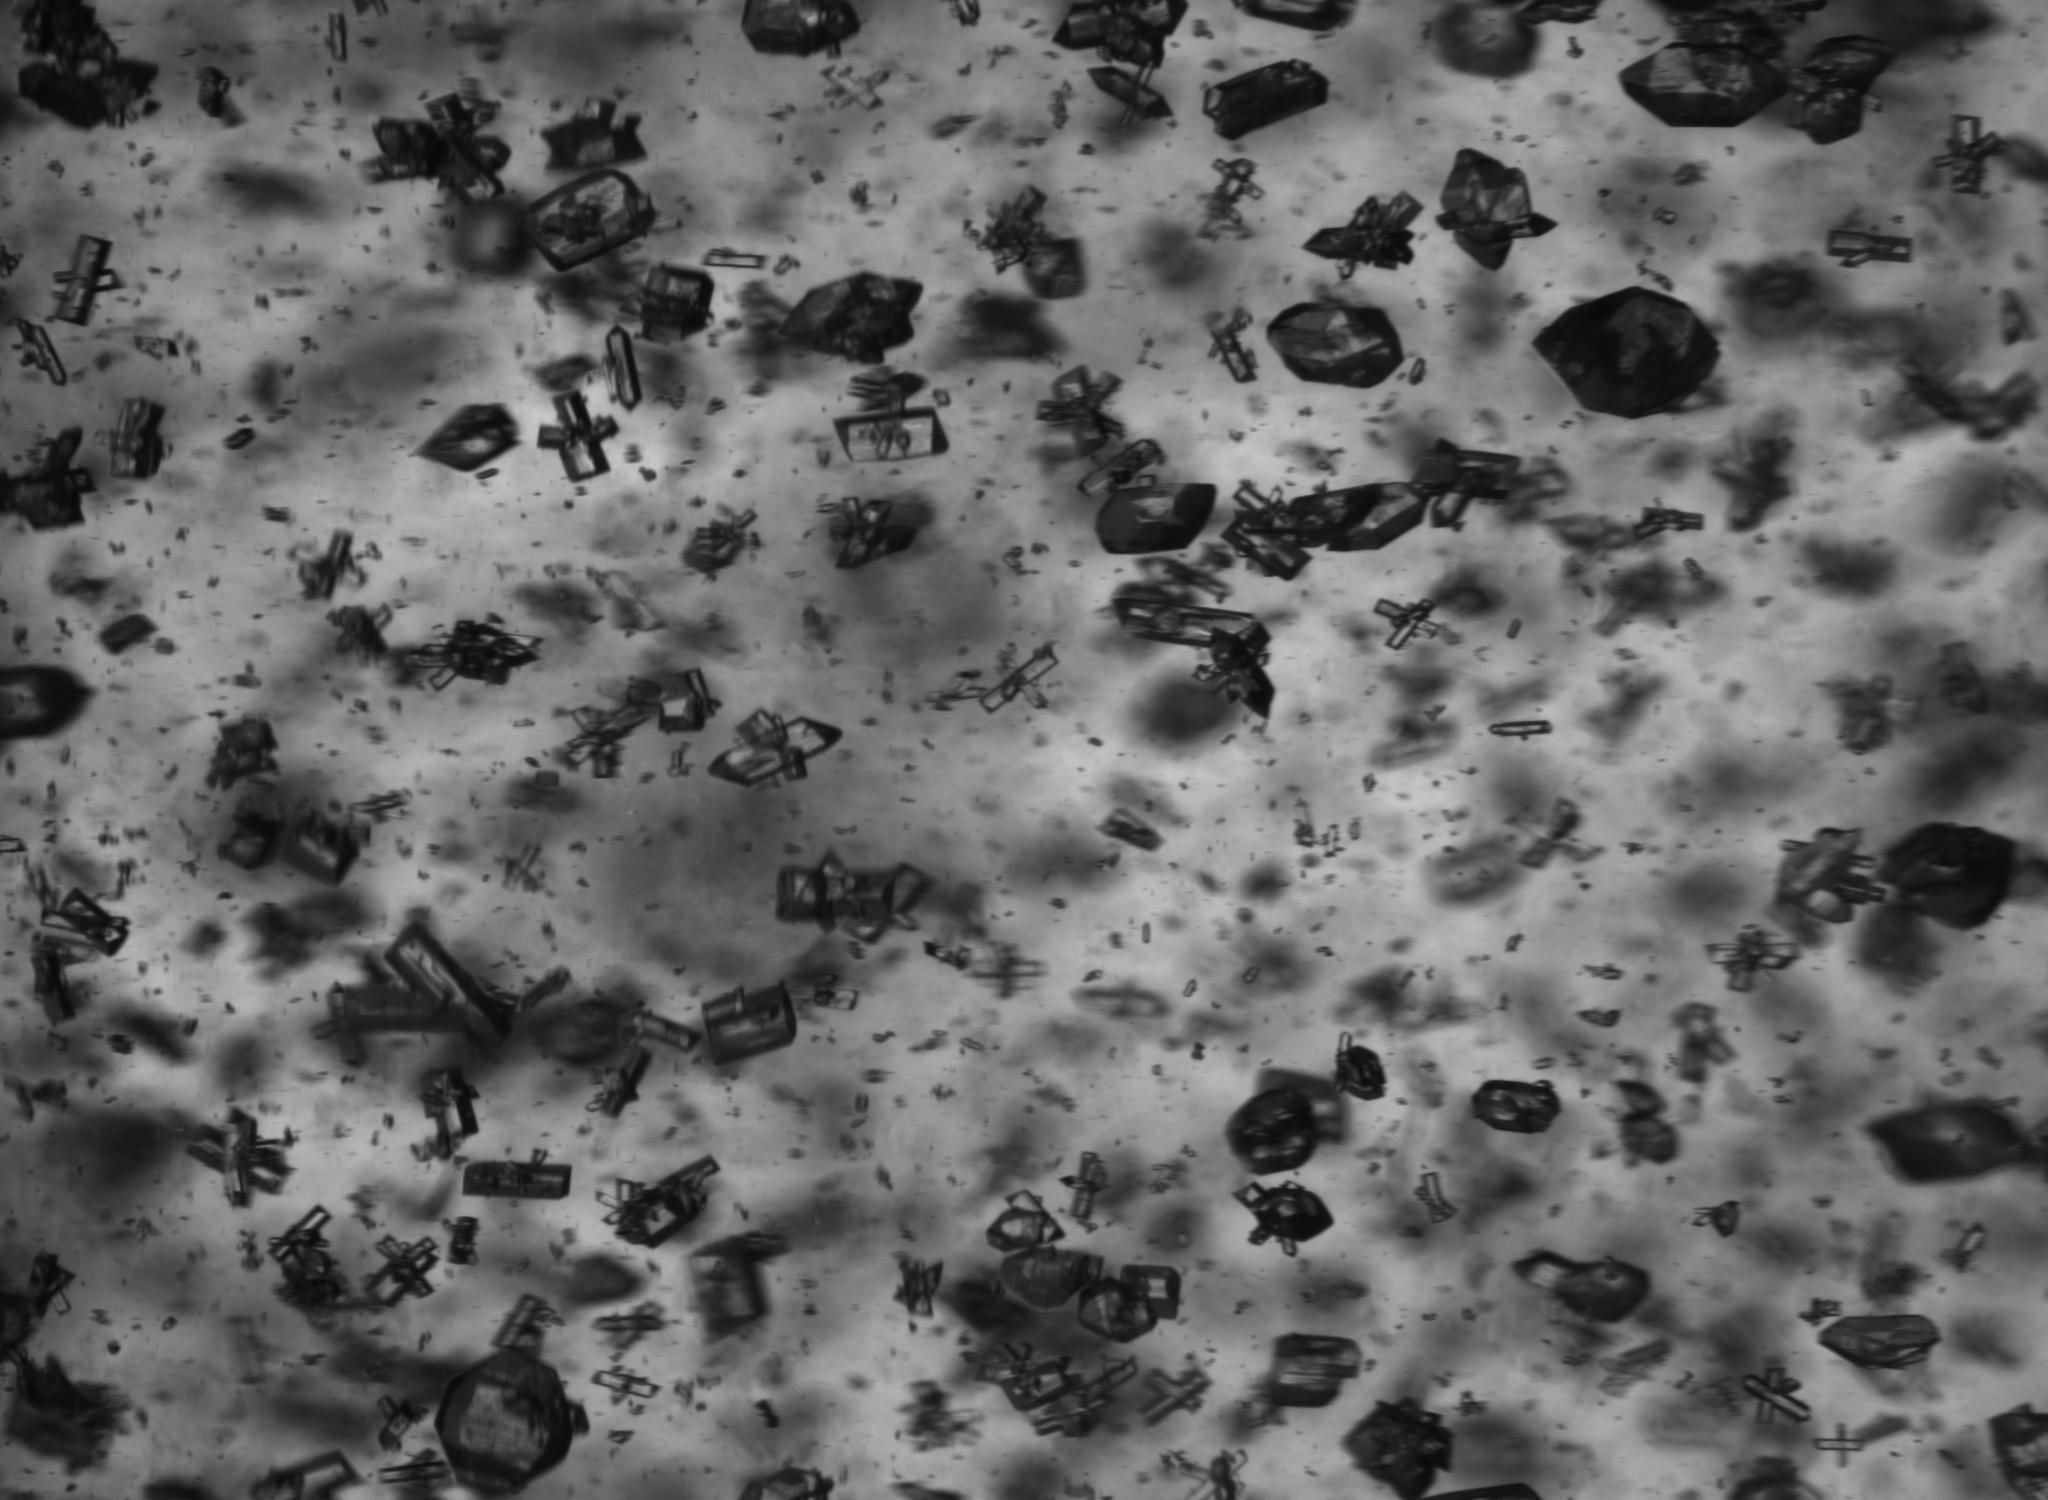crystal: (1534, 286, 1719, 418), (436, 1339, 582, 1495), (1221, 482, 1429, 581), (17, 0, 156, 129), (1620, 22, 1787, 127), (383, 921, 522, 1042), (967, 1341, 1134, 1436), (219, 776, 369, 883), (1878, 822, 2018, 931), (1867, 1099, 2037, 1183), (776, 853, 932, 943), (1437, 150, 1555, 269), (374, 94, 509, 197), (525, 169, 655, 270), (781, 272, 922, 364), (1266, 301, 1404, 388), (1111, 584, 1269, 660), (1789, 35, 1895, 143), (596, 1156, 719, 1249), (1344, 1400, 1455, 1500), (1775, 829, 1889, 924), (186, 1107, 296, 1206), (708, 709, 841, 787), (690, 1231, 787, 1338), (1204, 59, 1329, 140), (1304, 192, 1422, 278), (1515, 1250, 1652, 1322), (1412, 441, 1522, 528), (0, 428, 94, 530), (1094, 484, 1216, 555), (1056, 0, 1186, 67), (409, 620, 537, 687), (1228, 1086, 1325, 1174), (1078, 1266, 1180, 1343), (1194, 624, 1275, 719), (701, 985, 797, 1064), (542, 99, 646, 172), (553, 700, 650, 778), (0, 665, 91, 748), (537, 388, 617, 482), (1037, 366, 1123, 452), (1235, 1182, 1334, 1257), (1264, 1333, 1361, 1408), (968, 186, 1051, 272), (995, 1245, 1102, 1311), (417, 404, 520, 471), (824, 496, 917, 569), (741, 0, 860, 57), (1819, 1314, 1940, 1370), (835, 406, 949, 461), (1930, 115, 2007, 196), (1706, 924, 1798, 991), (634, 262, 714, 339), (54, 235, 121, 324), (626, 670, 719, 733), (41, 889, 129, 956), (1989, 1405, 2048, 1500), (978, 644, 1057, 714), (420, 1066, 479, 1160), (1616, 1080, 1679, 1163), (251, 1451, 358, 1500), (364, 1236, 439, 1306), (207, 716, 277, 789), (682, 511, 757, 577), (1080, 436, 1164, 495), (986, 1191, 1065, 1253), (1471, 1080, 1561, 1134), (1674, 1002, 1733, 1085), (1202, 157, 1259, 239), (1089, 62, 1170, 119), (461, 1158, 571, 1199), (1738, 1365, 1813, 1425), (110, 398, 165, 479), (299, 531, 366, 598), (1825, 216, 1913, 267), (270, 1206, 334, 1273), (1142, 1365, 1210, 1425), (377, 1448, 455, 1500), (1164, 1451, 1245, 1500), (1022, 239, 1086, 301), (22, 1252, 73, 1328), (593, 1301, 666, 1354), (596, 1048, 650, 1117), (1208, 307, 1256, 383), (14, 318, 68, 385), (1061, 1152, 1108, 1226), (1374, 598, 1444, 649), (491, 1295, 553, 1352), (738, 1463, 835, 1500), (851, 364, 925, 410), (1334, 1037, 1387, 1101), (326, 604, 390, 657), (604, 326, 642, 410), (1811, 1425, 1891, 1465), (895, 1255, 943, 1317), (631, 1008, 700, 1051), (377, 1397, 429, 1451), (196, 67, 243, 126), (924, 670, 986, 711), (1100, 811, 1162, 851), (590, 1366, 660, 1401), (1633, 507, 1703, 542), (99, 612, 157, 654), (1414, 1171, 1456, 1223), (1943, 1222, 1988, 1271), (1692, 1201, 1741, 1238), (922, 937, 973, 972), (445, 1217, 480, 1265), (809, 978, 855, 1010), (701, 248, 766, 269), (1488, 719, 1552, 740), (324, 13, 348, 62), (134, 336, 183, 359), (1313, 822, 1345, 859), (223, 423, 258, 450), (1577, 1008, 1620, 1028), (1584, 962, 1623, 981), (1183, 978, 1197, 999)
